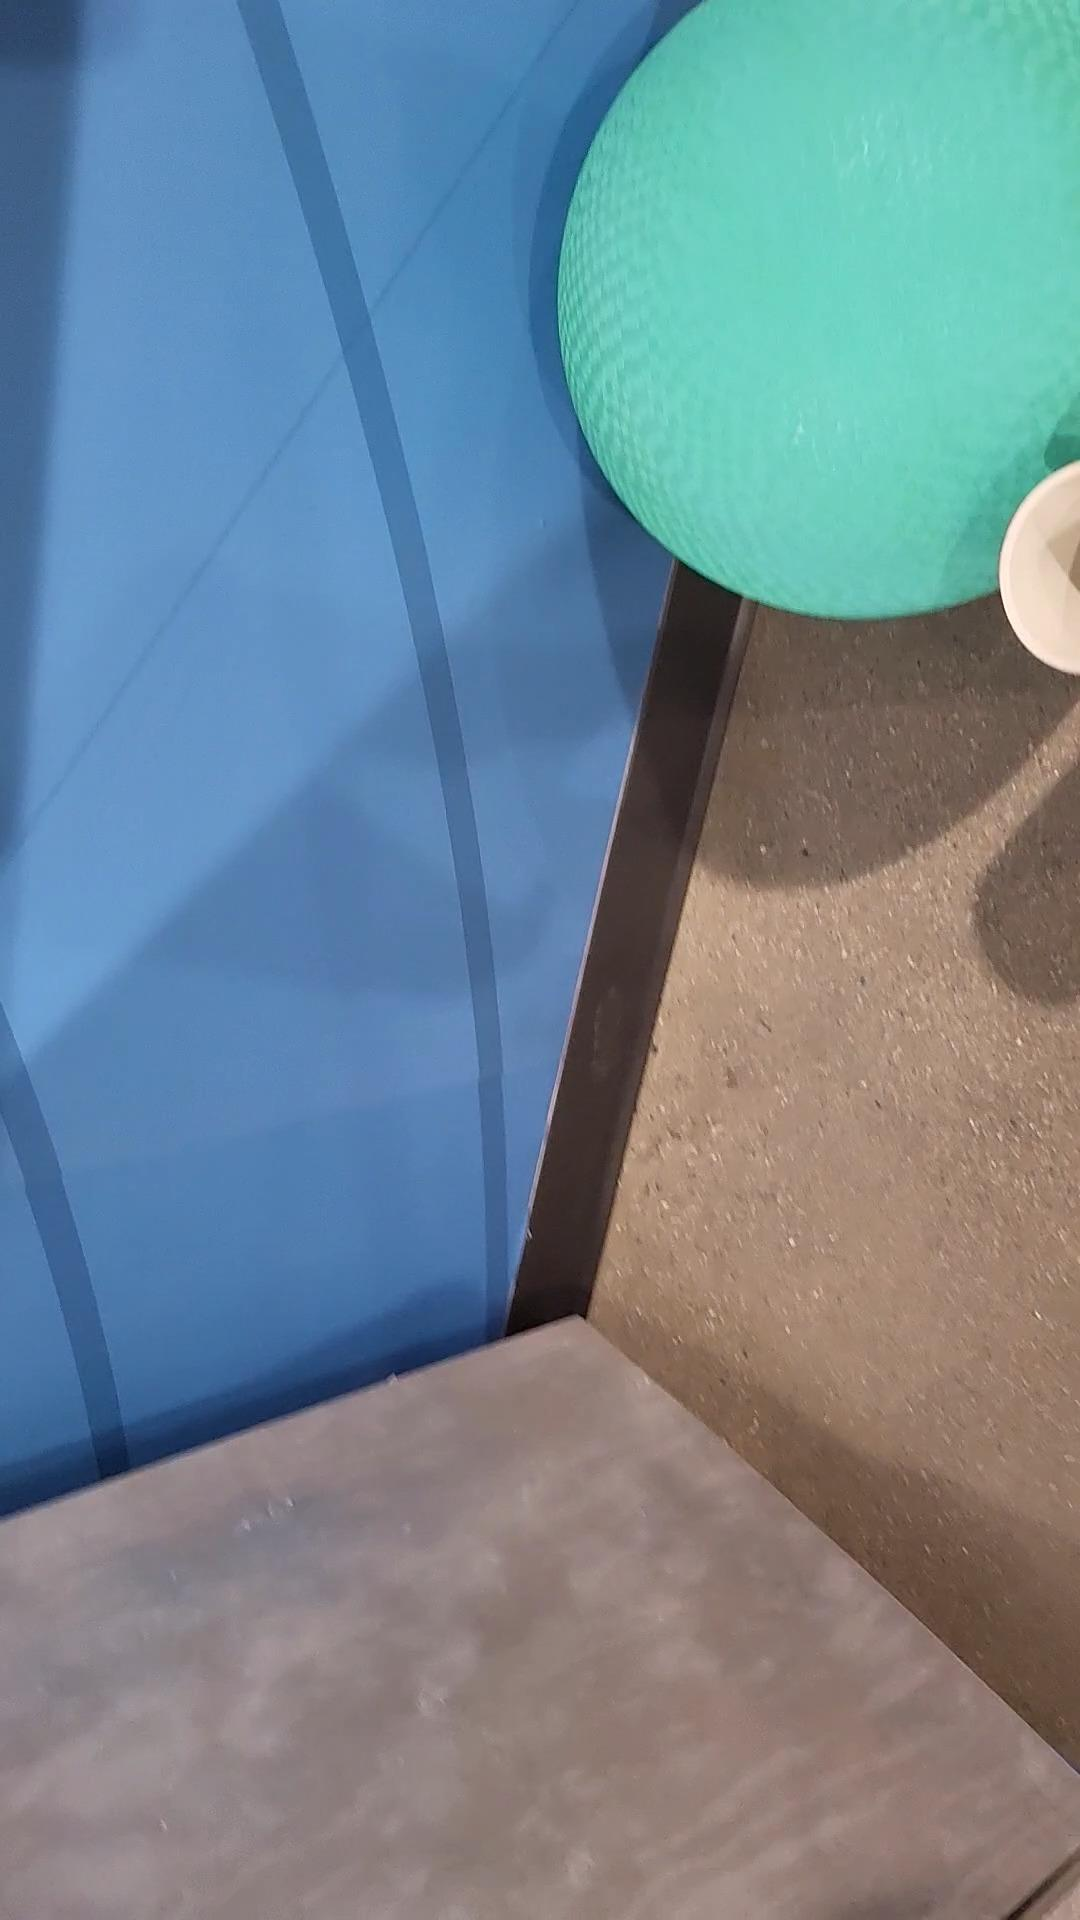algae: (555, 0, 1080, 617)
coral: (1002, 452, 1080, 675)
